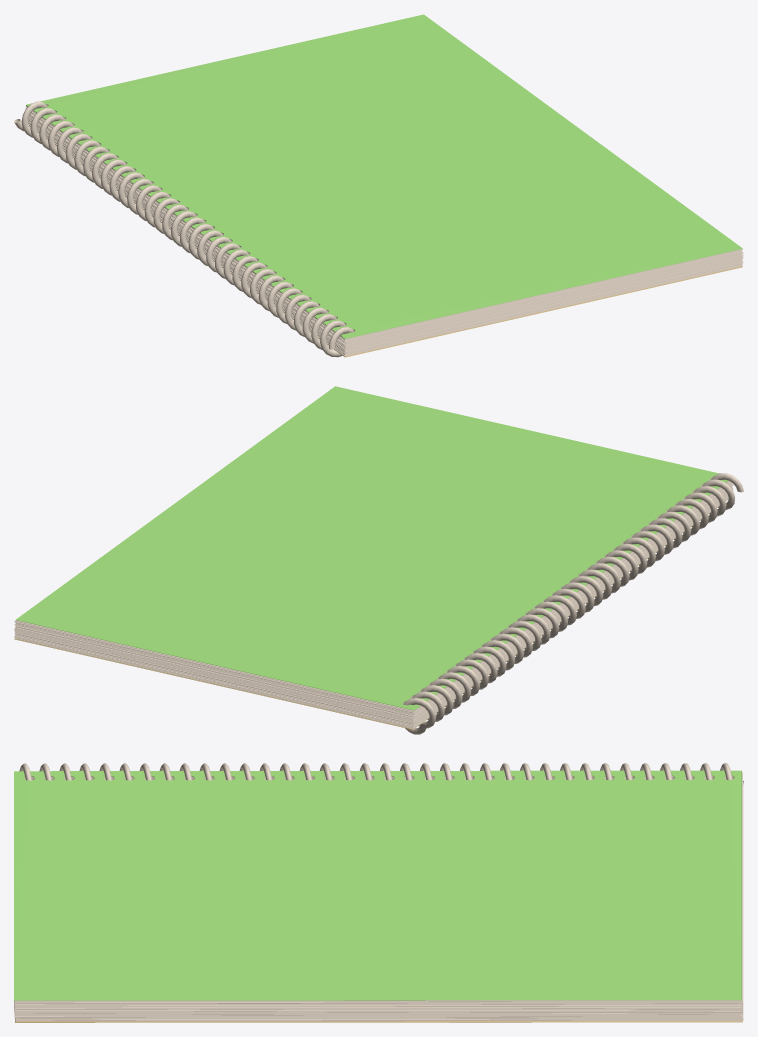
The model's file is Cahier.fbx.
The picture shows the model from 3 angles, top to bottom: view 1: azimuth 30°, elevation 25°; view 2: azimuth 150°, elevation 25°; view 3: azimuth 270°, elevation 25°; orthographic projection. The views are drawn at different scales.
Visible parts, largest first — view 1: Cahier; view 2: Cahier; view 3: Cahier.
Boxes of the visible parts, left/top/right/bottom form: Cahier: left=14, top=14, right=743, bottom=357; Cahier: left=14, top=386, right=743, bottom=734; Cahier: left=14, top=763, right=743, bottom=1022.
Bounding box in the file's own units: 156 × 12 × 211.
